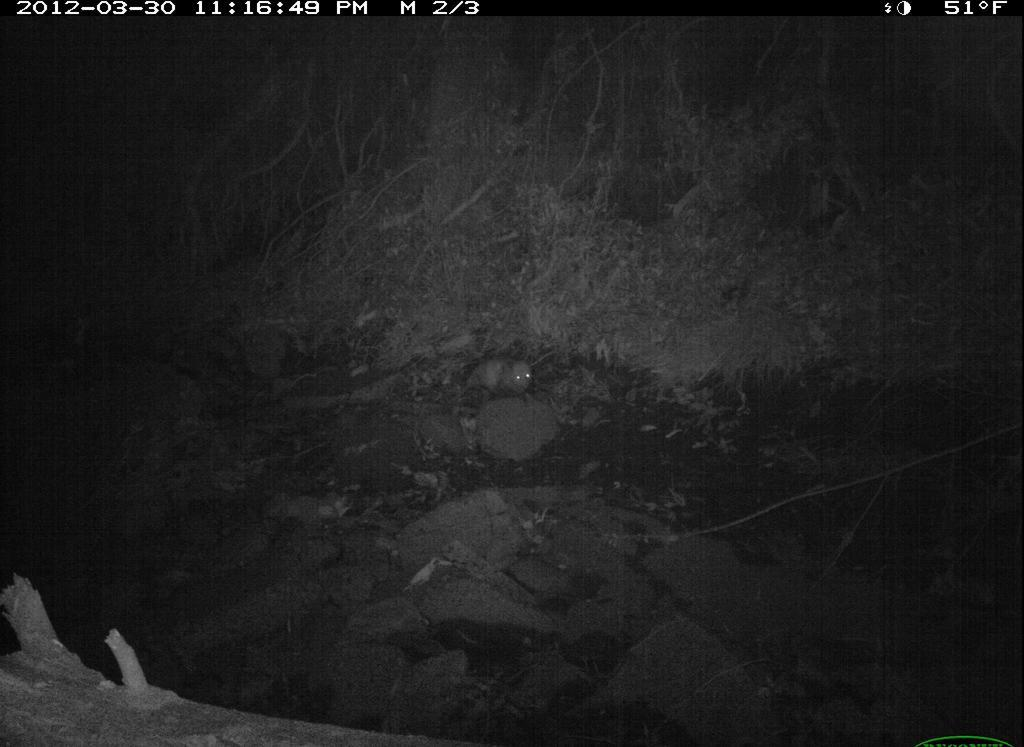opossum: (459, 349, 543, 409)
